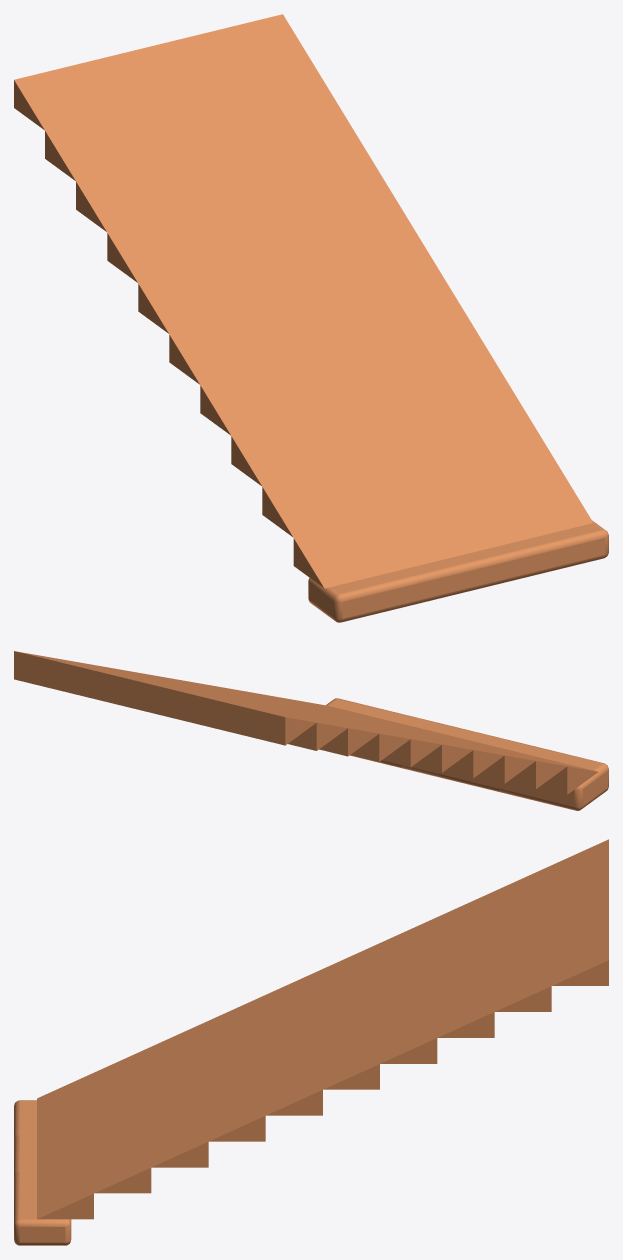
The model's file is stairsUpFinal.fbx.
3 renders of one model, top to bottom at view 1: azimuth 30°, elevation 25°; view 2: azimuth 150°, elevation 25°; view 3: azimuth 270°, elevation 25°, orthographic. The views are drawn at different scales.
Parts seen in each view (by area): view 1: mergedBlocks; view 2: mergedBlocks; view 3: mergedBlocks.
Boxes of the visible parts, left/top/right/bottom form: mergedBlocks: left=14, top=14, right=608, bottom=622; mergedBlocks: left=14, top=651, right=608, bottom=810; mergedBlocks: left=14, top=839, right=608, bottom=1245.
Bounding box in the file's own units: 51 × 55 × 104.
